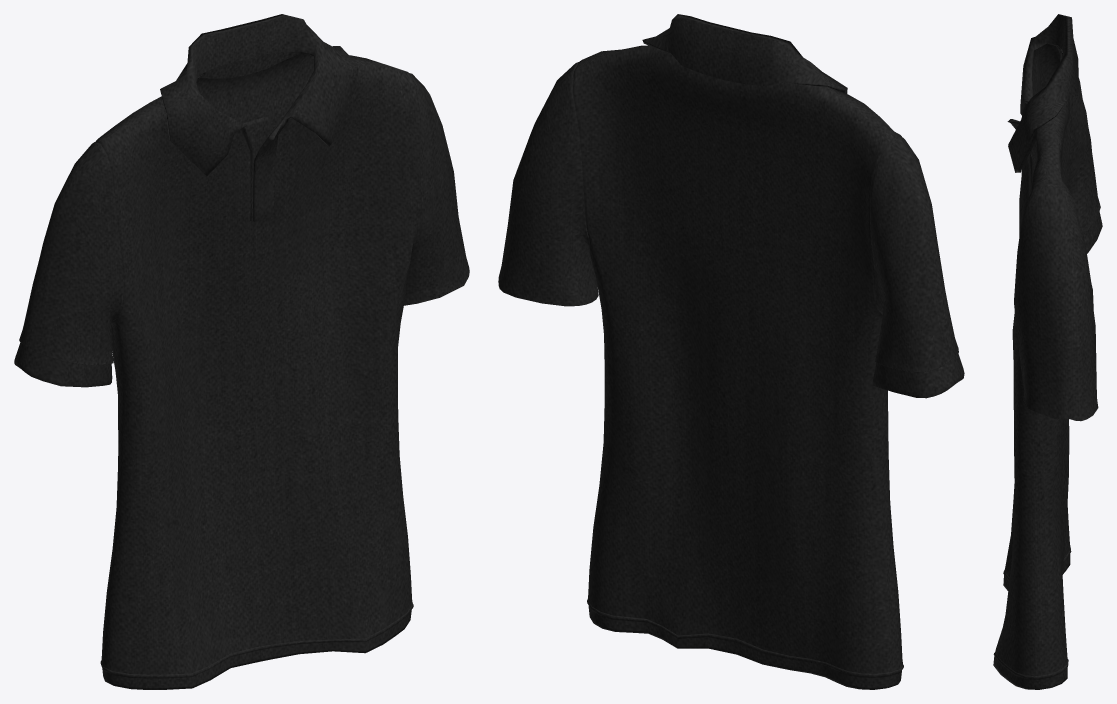
Rendered from Shirt hanger.fbx.
3 renders of one model, left to right at view 1: azimuth 30°, elevation 25°; view 2: azimuth 150°, elevation 25°; view 3: azimuth 270°, elevation 25°, orthographic. The views are drawn at different scales.
Visible parts, largest first — view 1: shirt hanger; view 2: shirt hanger; view 3: shirt hanger.
Part boxes in pixels (x1,y1,x2,y2): shirt hanger: (14,14,469,689); shirt hanger: (498,14,964,689); shirt hanger: (993,14,1102,689).
Size of the model in its own units: 61.1 by 81.37 by 13.62.
Materials: 1 (1 with a texture image).
